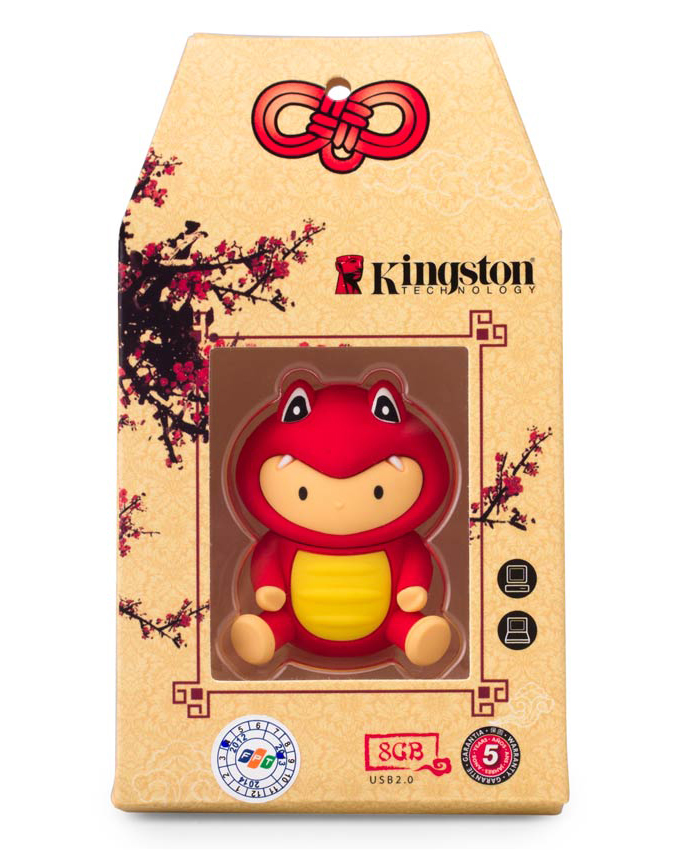Kingston: (325, 236, 547, 309)
